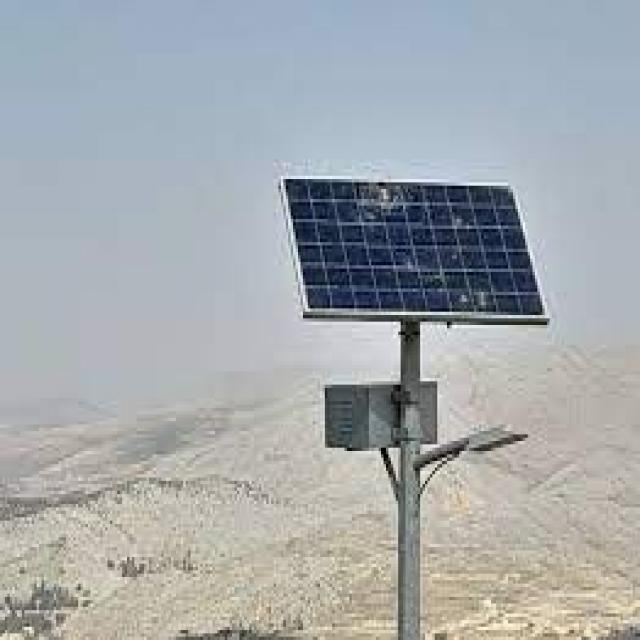faulty: (285, 170, 555, 327)
